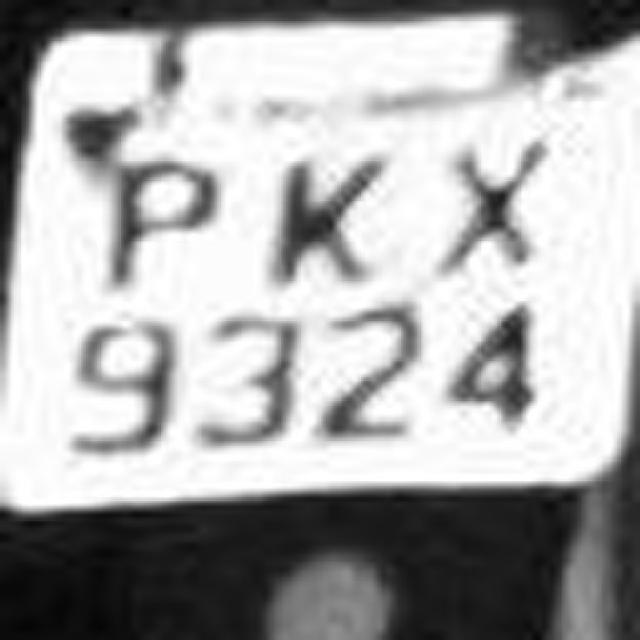2: (292, 292, 440, 448)
3: (152, 284, 328, 464)
4: (420, 284, 552, 451)
9: (36, 275, 196, 460)
K: (248, 149, 412, 296)
P: (76, 128, 244, 292)
X: (408, 132, 572, 300)
